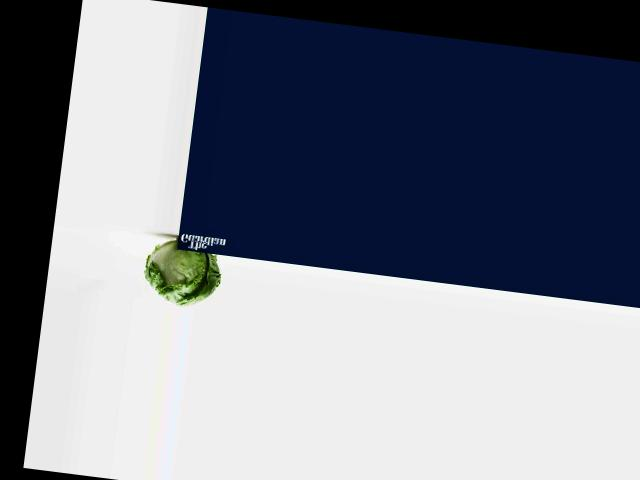lettuce: (141, 237, 223, 313)
